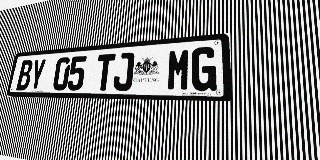0: (52, 57, 71, 91)
5: (67, 56, 87, 91)
B: (16, 60, 34, 90)
G: (191, 46, 217, 91)
J: (112, 52, 135, 91)
M: (166, 48, 191, 91)
T: (94, 54, 116, 91)
Y: (28, 59, 47, 90)
